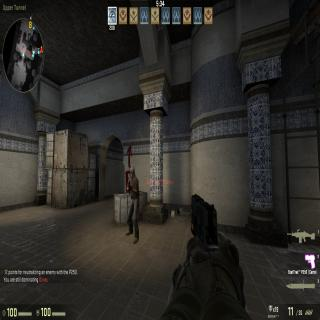T-Body: (127, 166, 139, 243)
T-Head: (130, 166, 135, 178)
